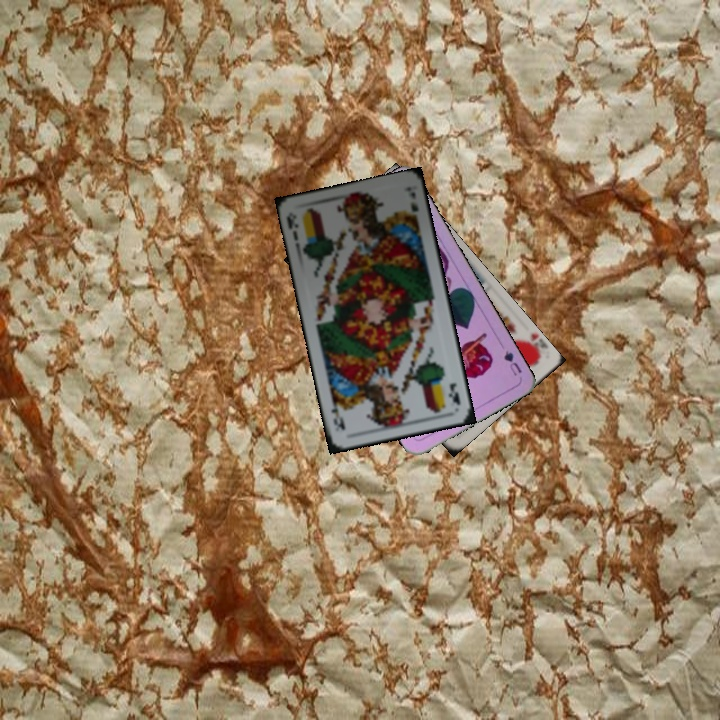EK: (283, 210, 301, 243), (444, 379, 463, 407)
GU: (500, 346, 525, 379)
HK: (518, 329, 549, 362)
